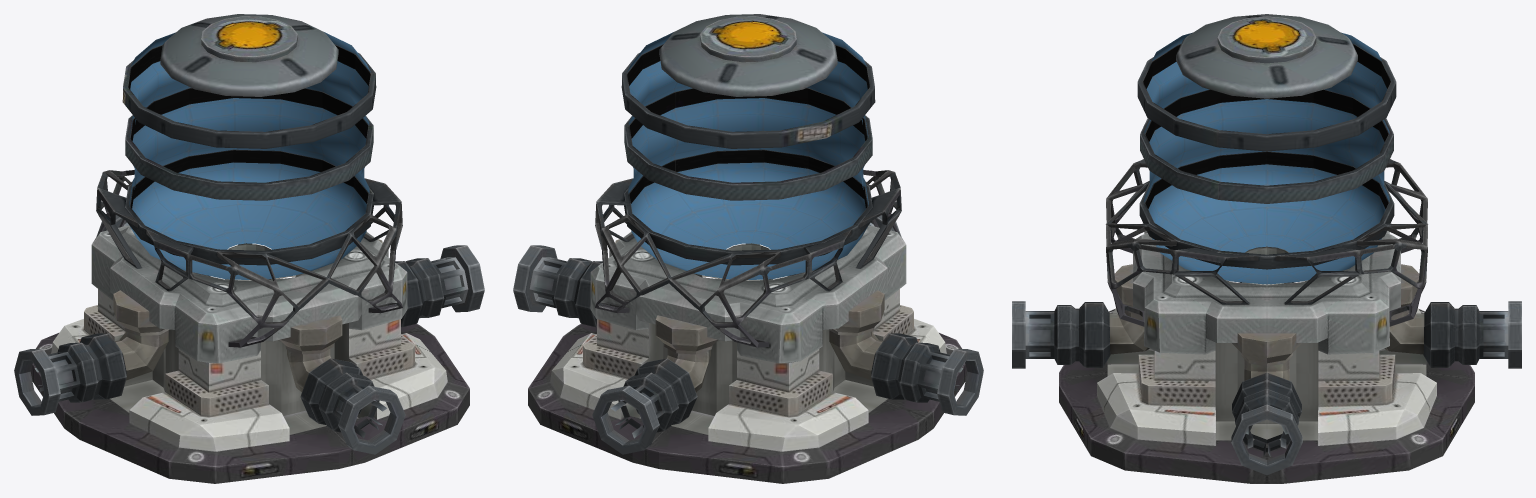
The model's file is storageTank.glb.
The picture shows the model from 3 angles, left to right: view 1: azimuth 30°, elevation 25°; view 2: azimuth 150°, elevation 25°; view 3: azimuth 270°, elevation 25°; orthographic projection.
Visible parts, largest first — view 1: lifangti.004, lifangti.005; view 2: lifangti.004, lifangti.005; view 3: lifangti.004, lifangti.005.
Boxes of the visible parts, x1,y1,x2,y2 form: lifangti.004: [14, 170, 484, 483]; lifangti.005: [122, 14, 376, 279]; lifangti.004: [513, 170, 983, 483]; lifangti.005: [621, 14, 875, 279]; lifangti.004: [1012, 159, 1521, 483]; lifangti.005: [1137, 14, 1396, 284].
Bounding box in the file's own units: 30 × 23.45 × 30.
Materials: 1 (1 with a texture image).
